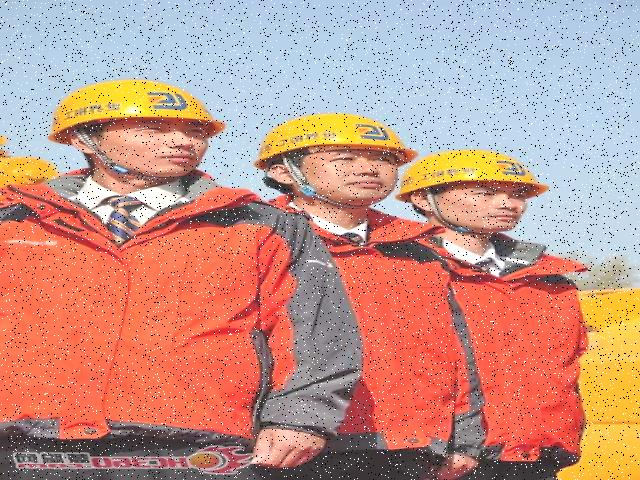Helmet: (42, 74, 235, 147), (250, 108, 427, 172), (392, 145, 559, 208)
